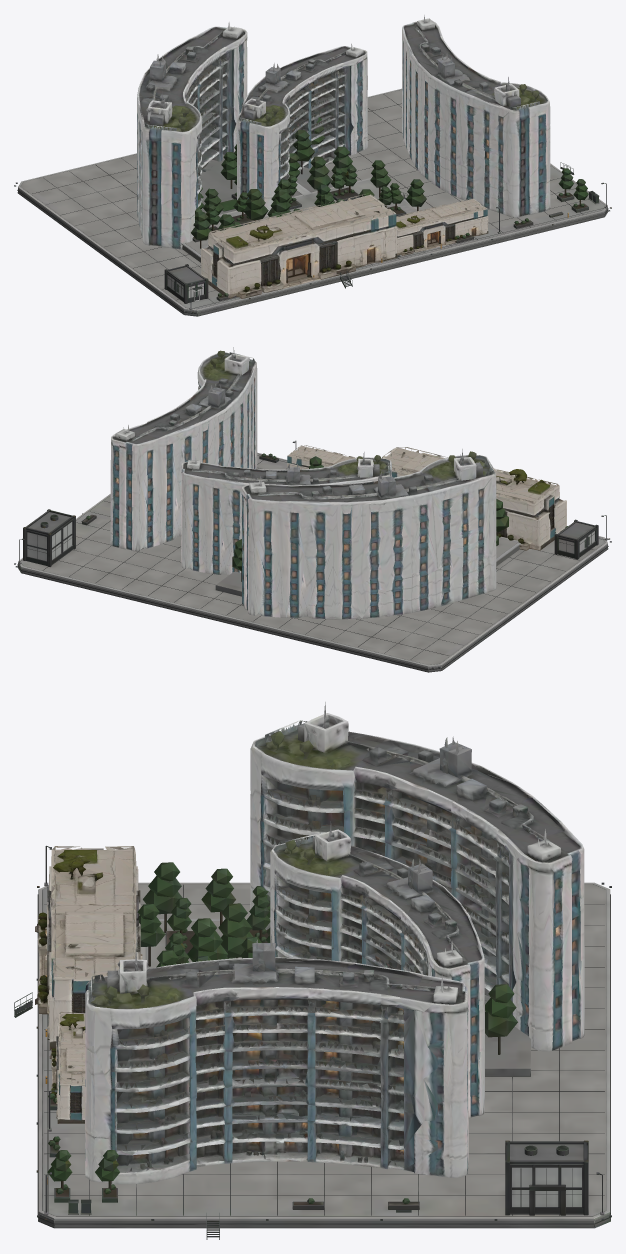
File: residence.lite.glb
3 views of the same model, one above another, from view 1: azimuth 30°, elevation 25°; view 2: azimuth 150°, elevation 25°; view 3: azimuth 270°, elevation 25° (orthographic). The views are drawn at different scales.
Visible parts, largest first — view 1: parts_colony-curvedTerrace, hull, parts_colony-podiumSegment; view 2: parts_colony-curvedTerrace, hull, parts_colony-podiumSegment; view 3: parts_colony-curvedTerrace, hull, parts_colony-podiumSegment.
Boxes of the visible parts, x1=… form: parts_colony-curvedTerrace: x1=137, y1=15, x2=550, y2=249; hull: x1=14, y1=88, x2=611, y2=316; parts_colony-podiumSegment: x1=201, y1=194, x2=488, y2=298; parts_colony-curvedTerrace: x1=110, y1=347, x2=496, y2=619; hull: x1=14, y1=440, x2=611, y2=672; parts_colony-podiumSegment: x1=287, y1=445, x2=566, y2=550; parts_colony-curvedTerrace: x1=85, y1=702, x2=584, y2=1184; hull: x1=14, y1=845, x2=611, y2=1239; parts_colony-podiumSegment: x1=35, y1=846, x2=142, y2=1123.
Bounding box in the file's own units: 103 × 33.68 × 75.27.
Materials: 4 (4 with a texture image).
